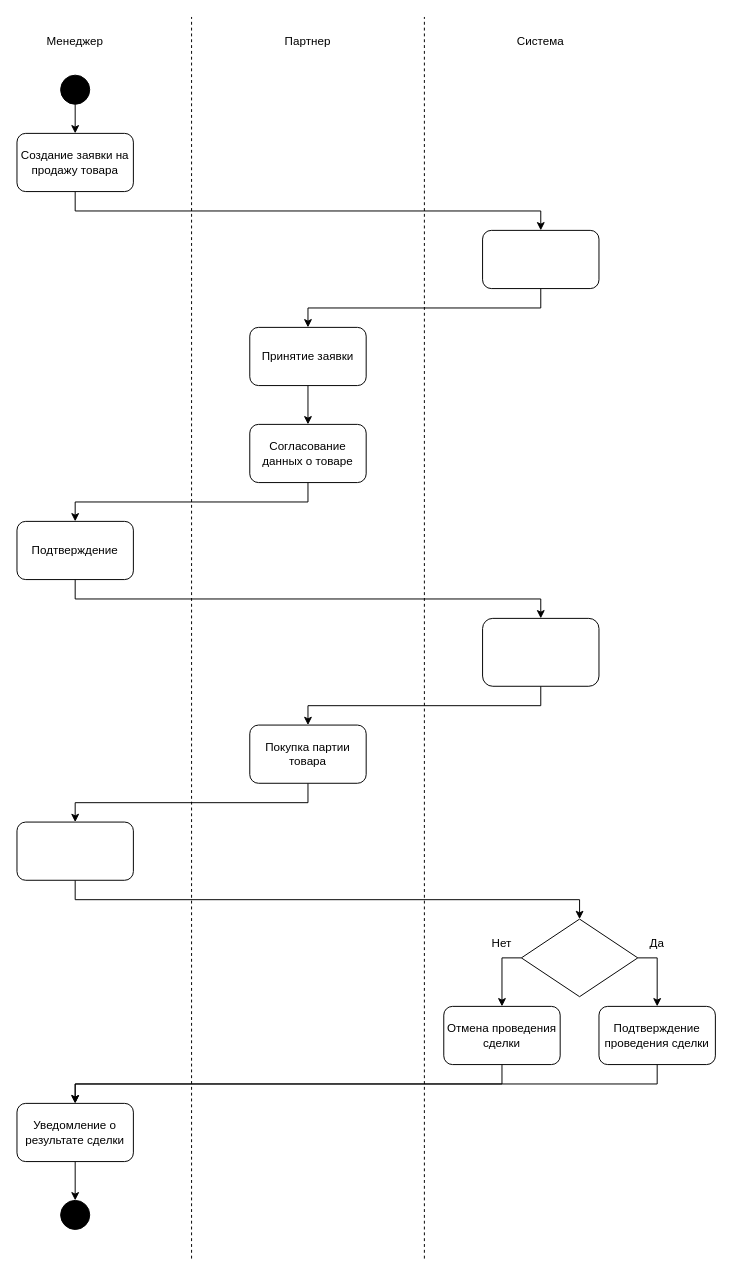
This 732x1277 diagram has some shape labels left out. The box of each missing label's shape, as (x1, y1, x2, y2) in pixels:
Оплата: (16, 821, 133, 880)
Оплата прошла?: (520, 918, 638, 997)
Создание записи о покупке партии товара определенным партнером: (482, 617, 599, 686)
Создание заявки на продажу товара в системе: (482, 229, 599, 289)
